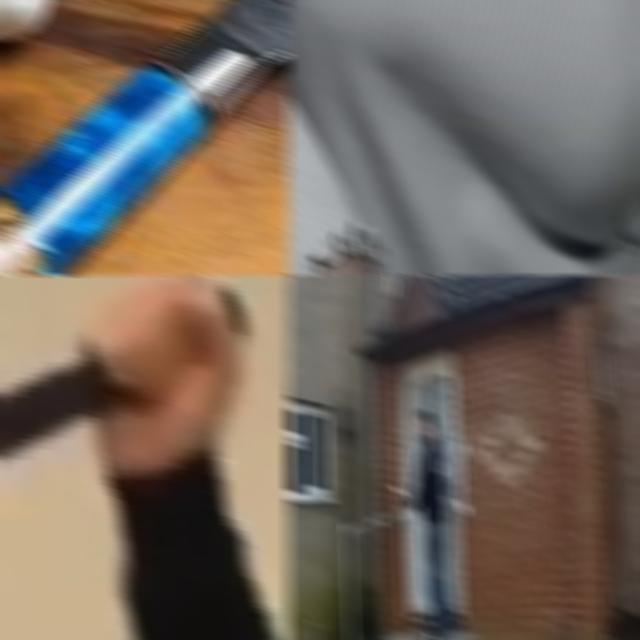Knife: (0, 338, 114, 530)
Knife_Handle: (0, 274, 255, 538), (391, 483, 420, 512)
